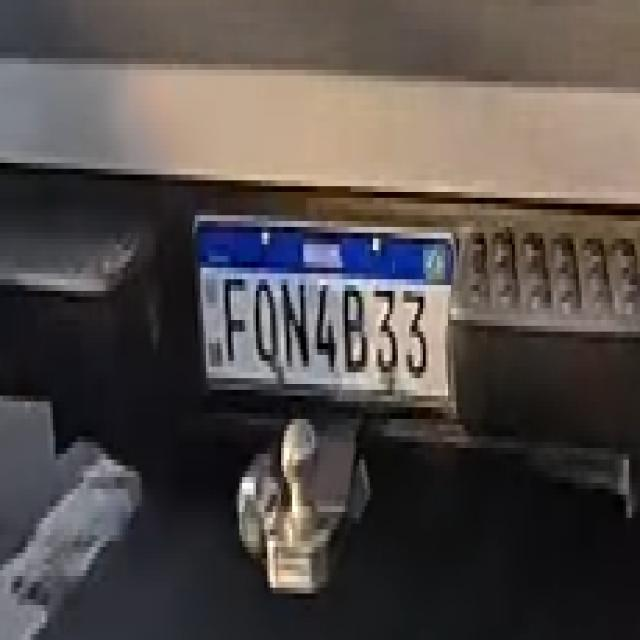Placa_mercosul_carro: (191, 214, 458, 405)
